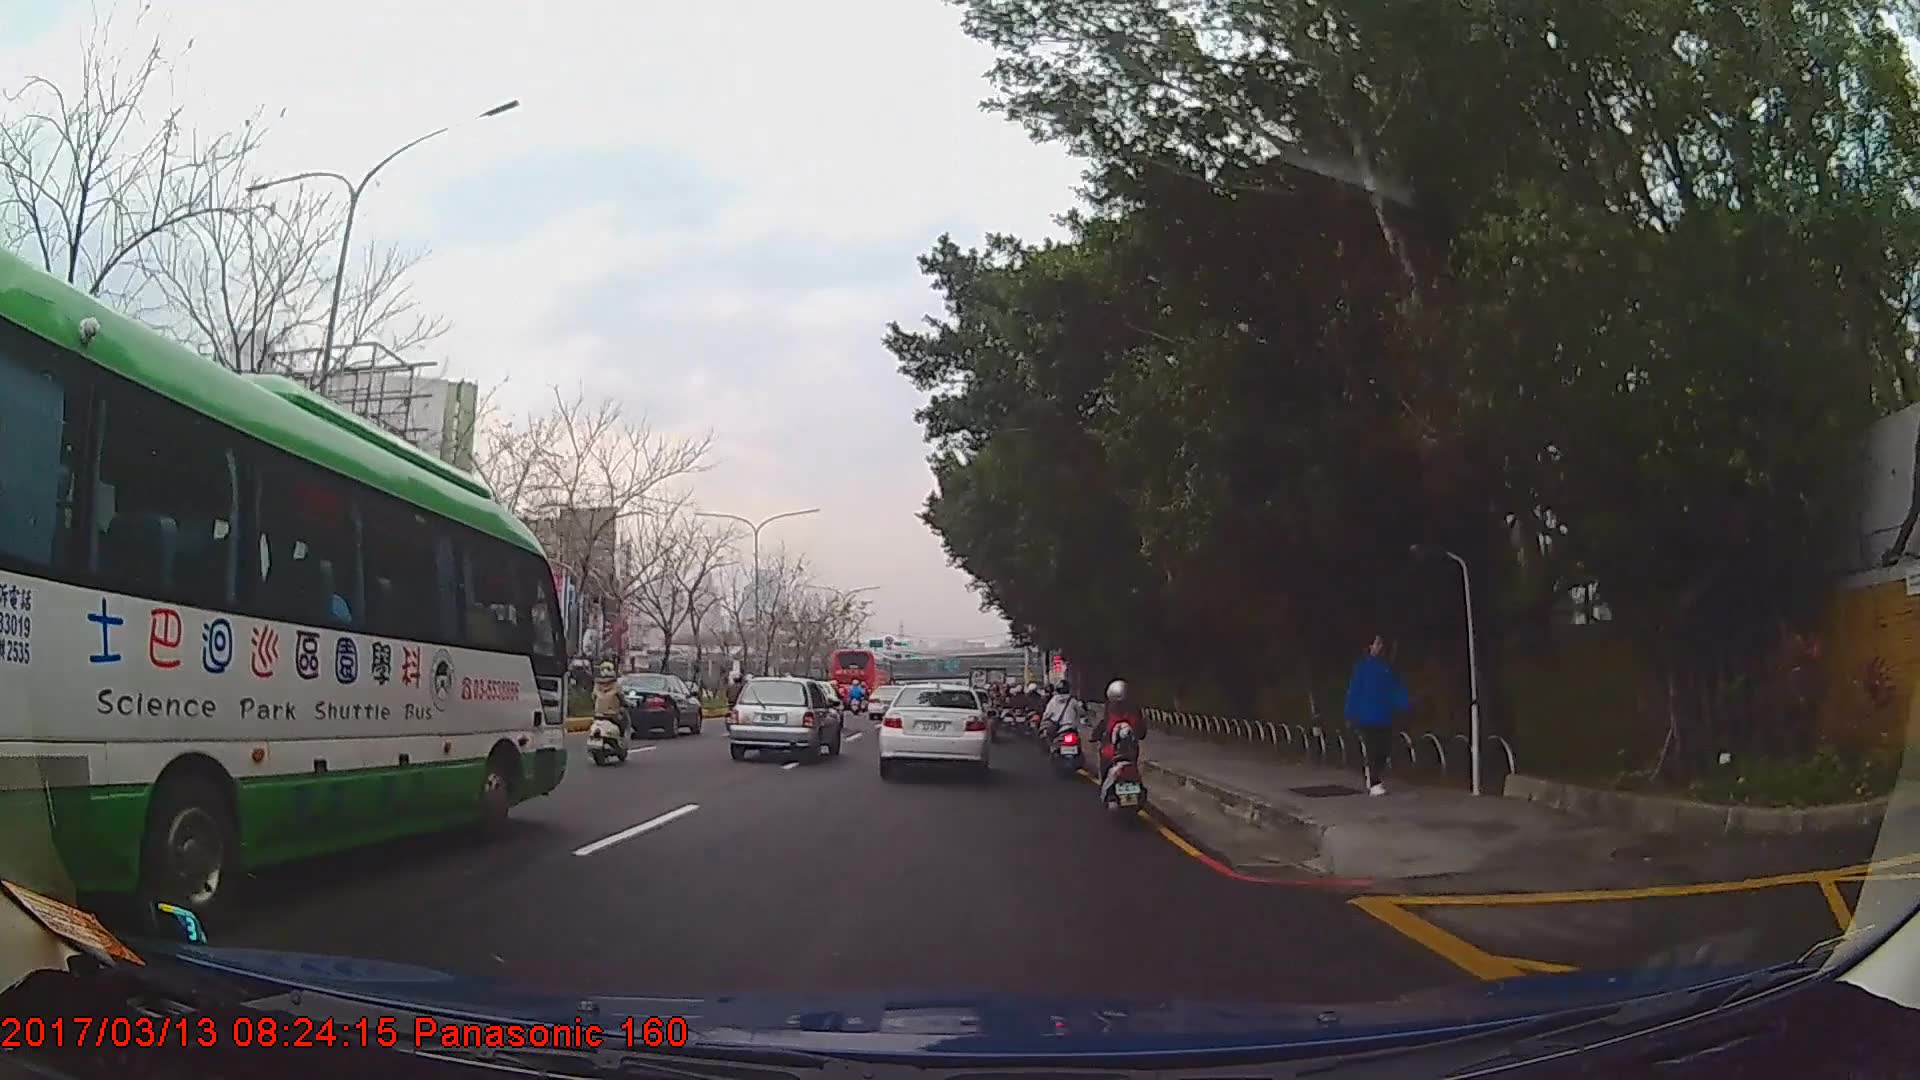pedestrian: (1343, 634, 1403, 798)
rider: (1094, 679, 1147, 827), (588, 662, 636, 770), (1042, 684, 1085, 782), (1037, 686, 1058, 752), (728, 674, 750, 726)
vehicle: (0, 237, 568, 942), (879, 683, 992, 780), (727, 674, 841, 762), (601, 673, 701, 743), (829, 648, 898, 710)
